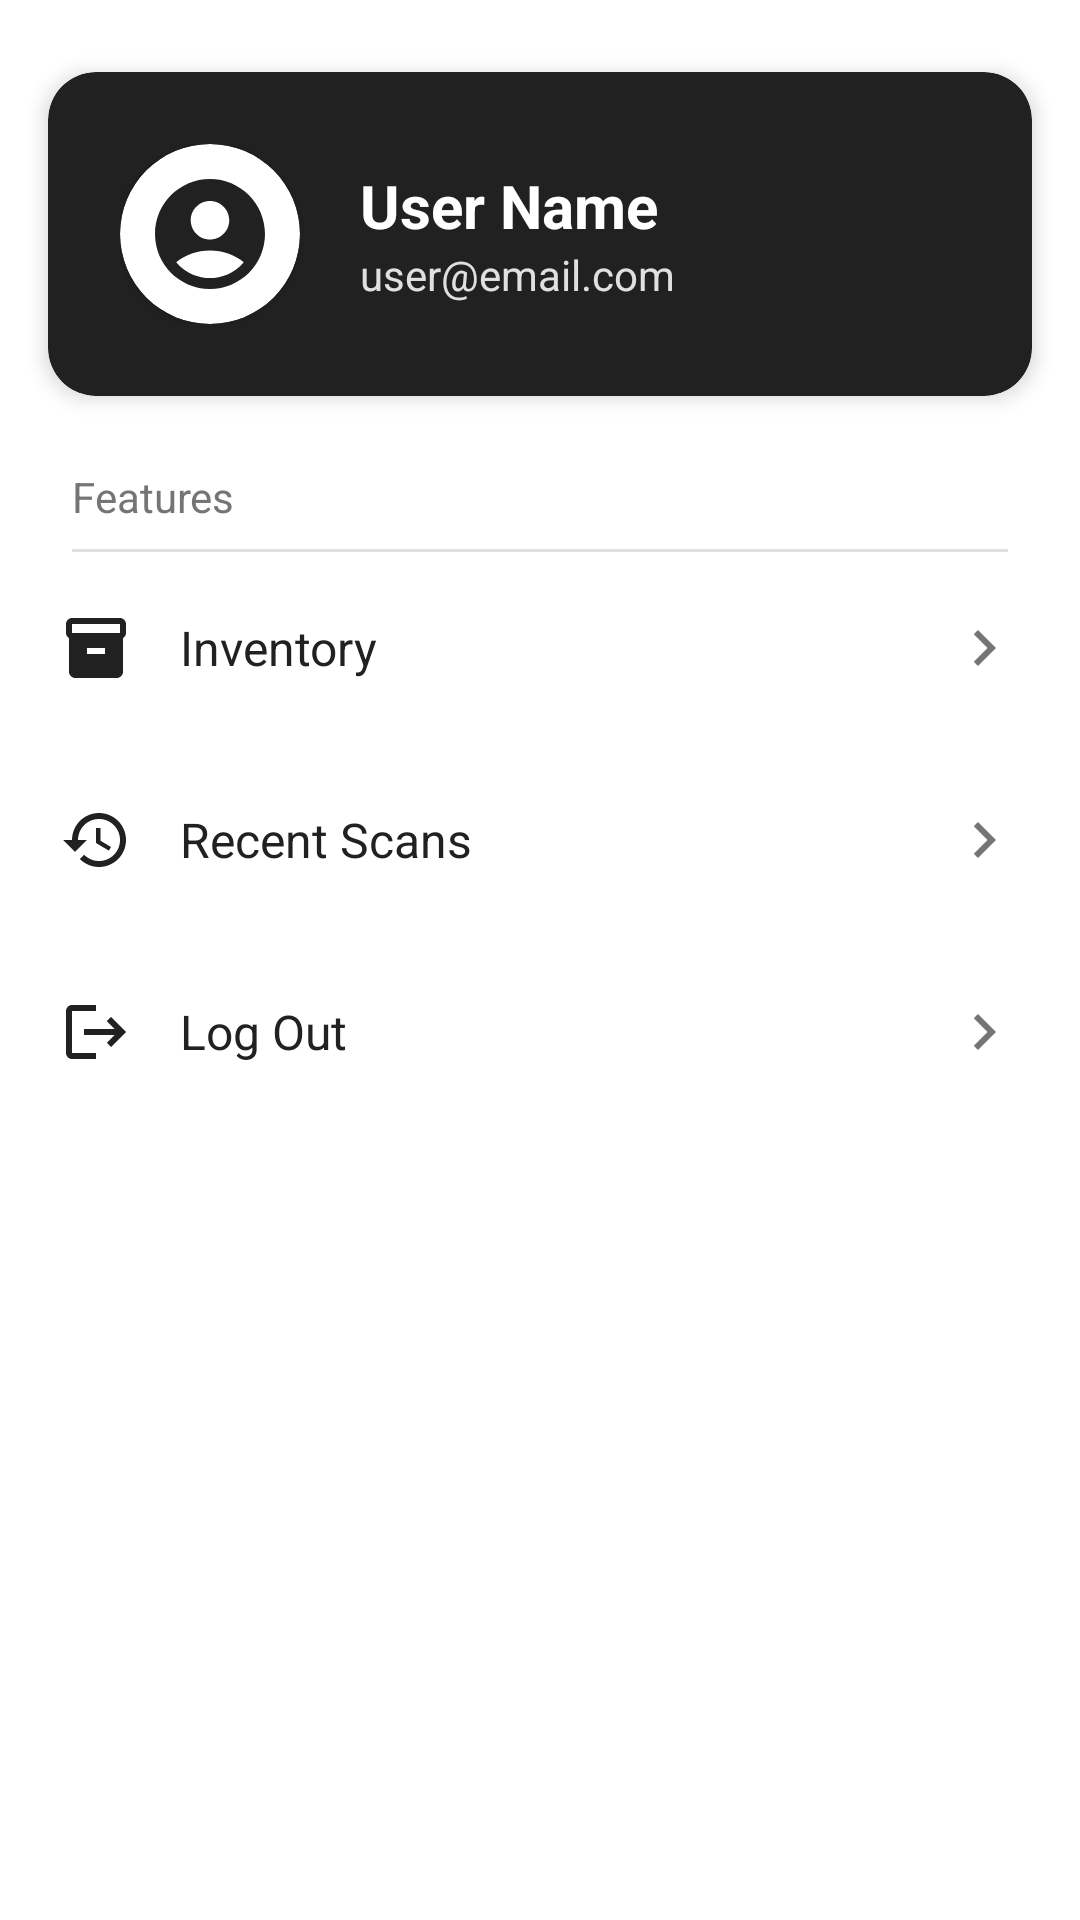

Screen size 1080 x 1920. Icon name, then its box in pixels as (x1, y1, x2, y2):
chevron right: (974, 630, 996, 666), (974, 822, 996, 858), (974, 1014, 996, 1050)
history: (63, 813, 126, 867)
